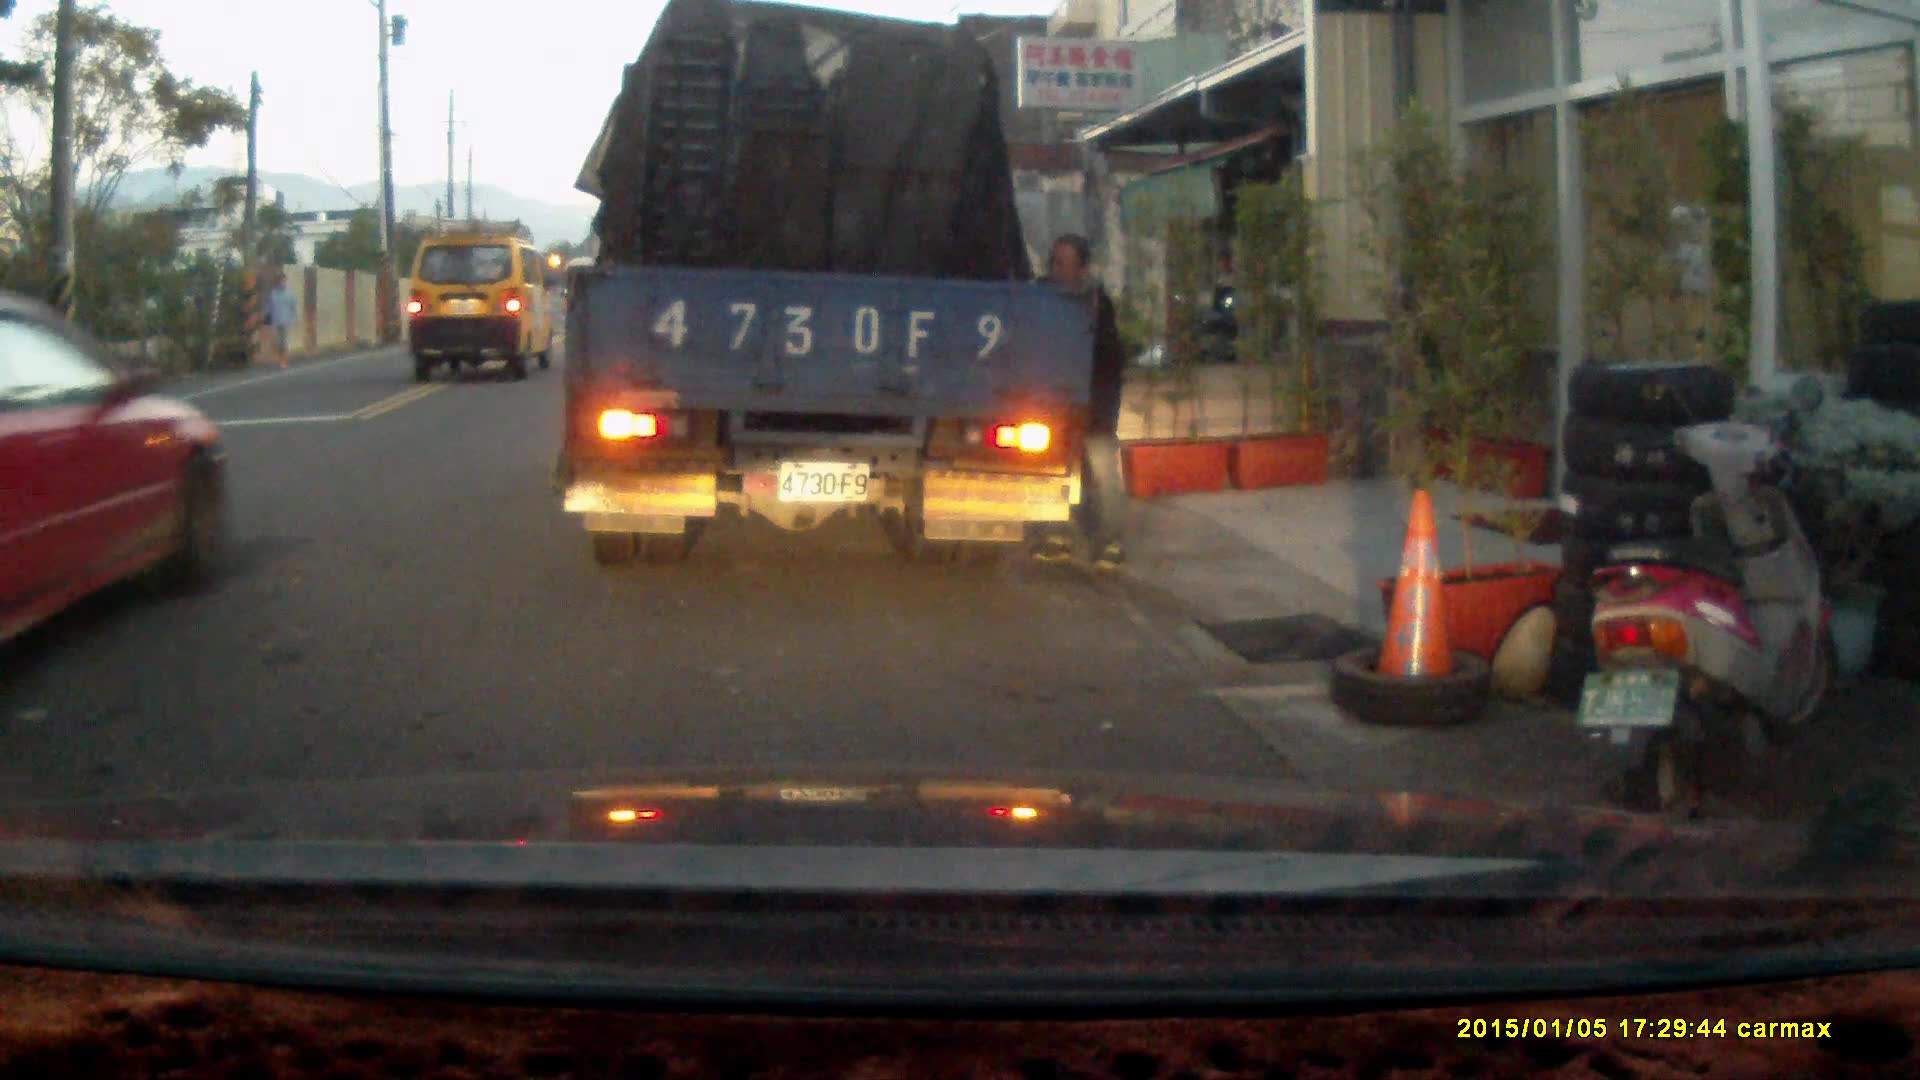pedestrian: (1020, 230, 1130, 575), (257, 276, 297, 369)
vehicle: (565, 23, 1095, 568), (1, 286, 230, 670), (404, 234, 561, 377)
